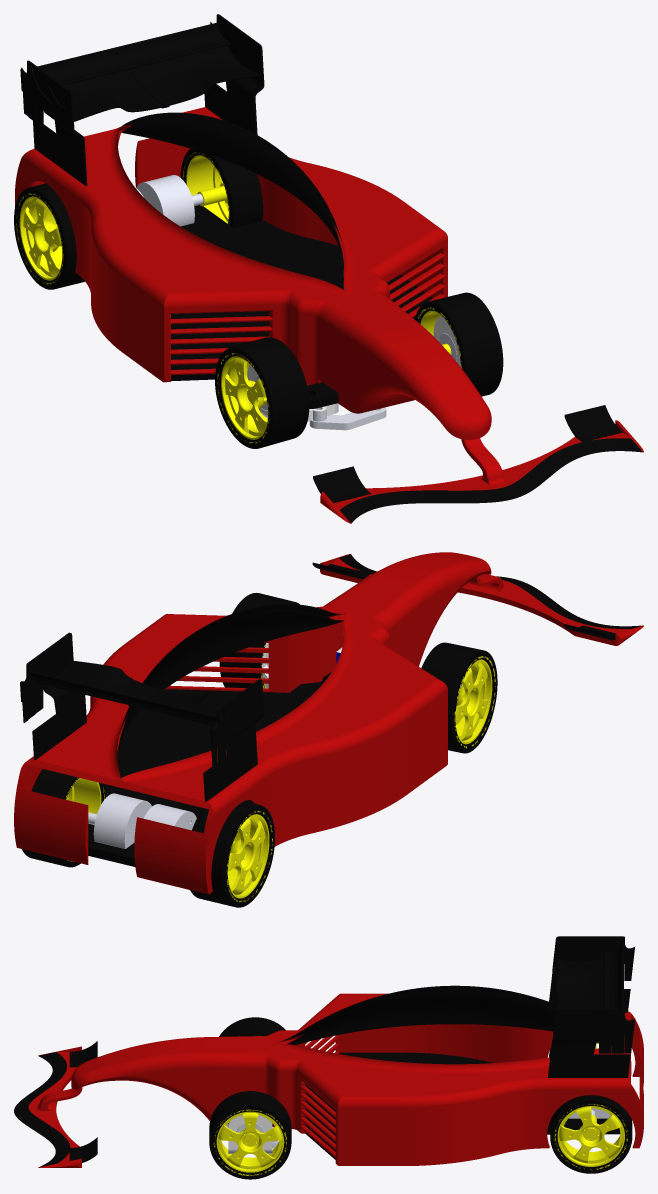
3 views of the same model, one above another, from view 1: azimuth 30°, elevation 25°; view 2: azimuth 150°, elevation 25°; view 3: azimuth 270°, elevation 25° (orthographic). The views are drawn at different scales.
Visible parts, largest first — view 1: Node1, Node2, Node4, Node5, Node3; view 2: Node1, Node2, Node4, Node5; view 3: Node1, Node2, Node4, Node3, Node5.
Boxes of the visible parts, bbox=[...] form: Node1: bbox=[15, 107, 643, 523]; Node2: bbox=[14, 14, 643, 523]; Node4: bbox=[16, 152, 462, 443]; Node5: bbox=[135, 175, 456, 430]; Node3: bbox=[247, 316, 460, 421]; Node1: bbox=[14, 552, 643, 894]; Node2: bbox=[20, 554, 642, 907]; Node4: bbox=[66, 644, 495, 902]; Node5: bbox=[88, 645, 461, 848]; Node1: bbox=[28, 993, 643, 1167]; Node2: bbox=[14, 936, 635, 1179]; Node4: bbox=[213, 1035, 627, 1175]; Node3: bbox=[228, 1115, 272, 1149]; Node5: bbox=[226, 1108, 610, 1153].
Size of the model in its own units: 186 by 122 by 429.
